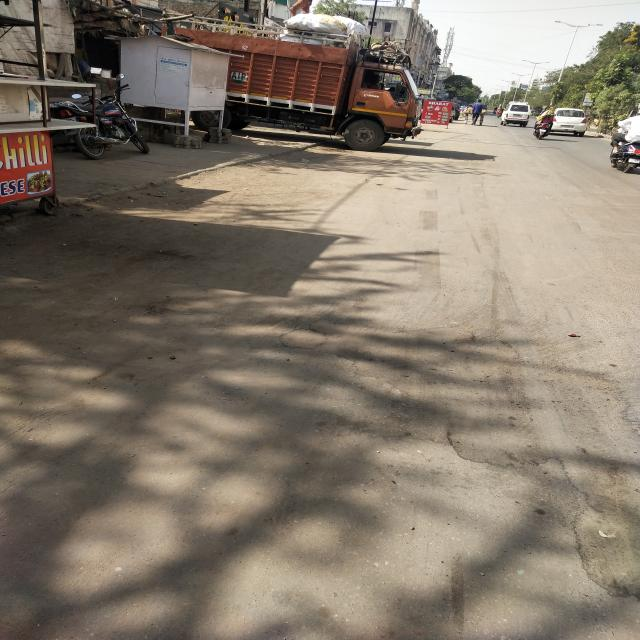Bike: (609, 126, 640, 175), (536, 115, 552, 141), (496, 105, 502, 119)
cars: (551, 108, 589, 138), (502, 101, 530, 128)
truck: (211, 32, 425, 153)
